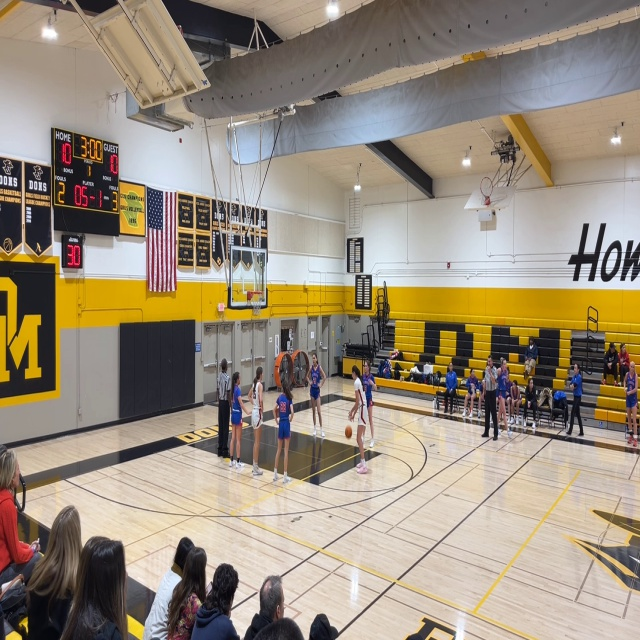Basketball: (344, 425, 352, 438)
